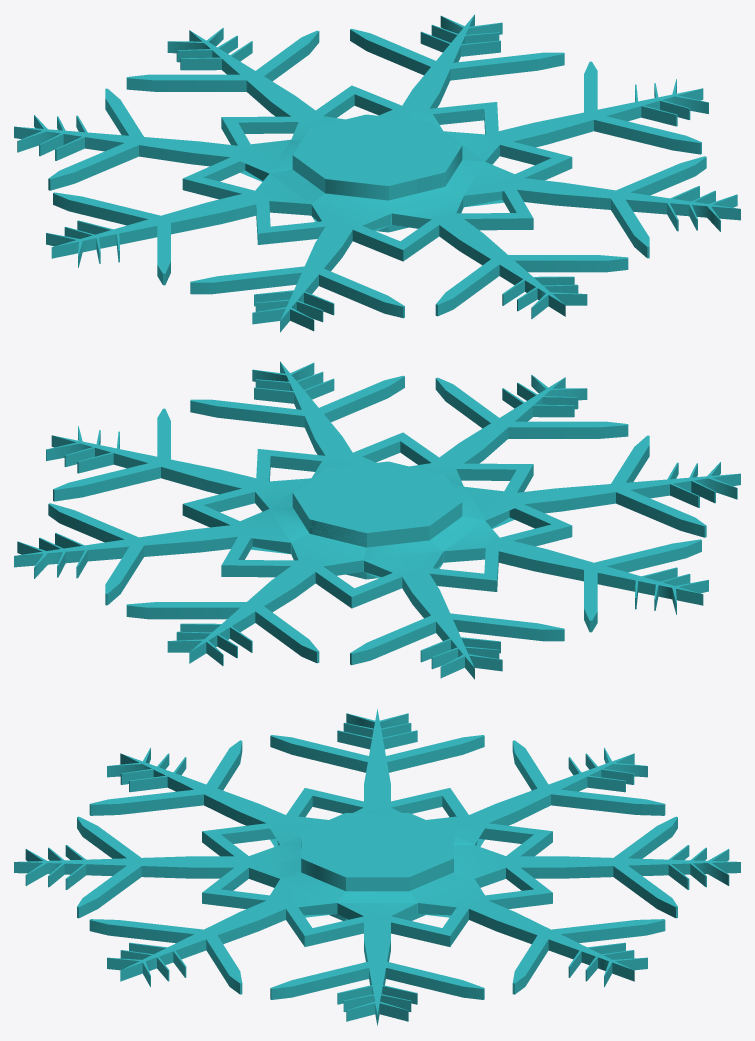
3 views of the same model, one above another, from view 1: azimuth 30°, elevation 25°; view 2: azimuth 150°, elevation 25°; view 3: azimuth 270°, elevation 25° (orthographic). The views are drawn at different scales.
Parts seen in each view (by area): view 1: obj5; view 2: obj5; view 3: obj5.
Boxes of the visible parts, left/top/right/bottom form: obj5: left=14, top=14, right=740, bottom=332; obj5: left=14, top=361, right=740, bottom=679; obj5: left=14, top=708, right=740, bottom=1026.
Bounding box in the file's own units: 200 × 13.59 × 200.
